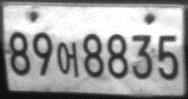3: (131, 35, 153, 79)
5: (157, 34, 179, 81)
8: (106, 34, 128, 79), (83, 33, 104, 79), (9, 32, 30, 76)
9: (32, 32, 53, 76)
어: (56, 41, 80, 79)
